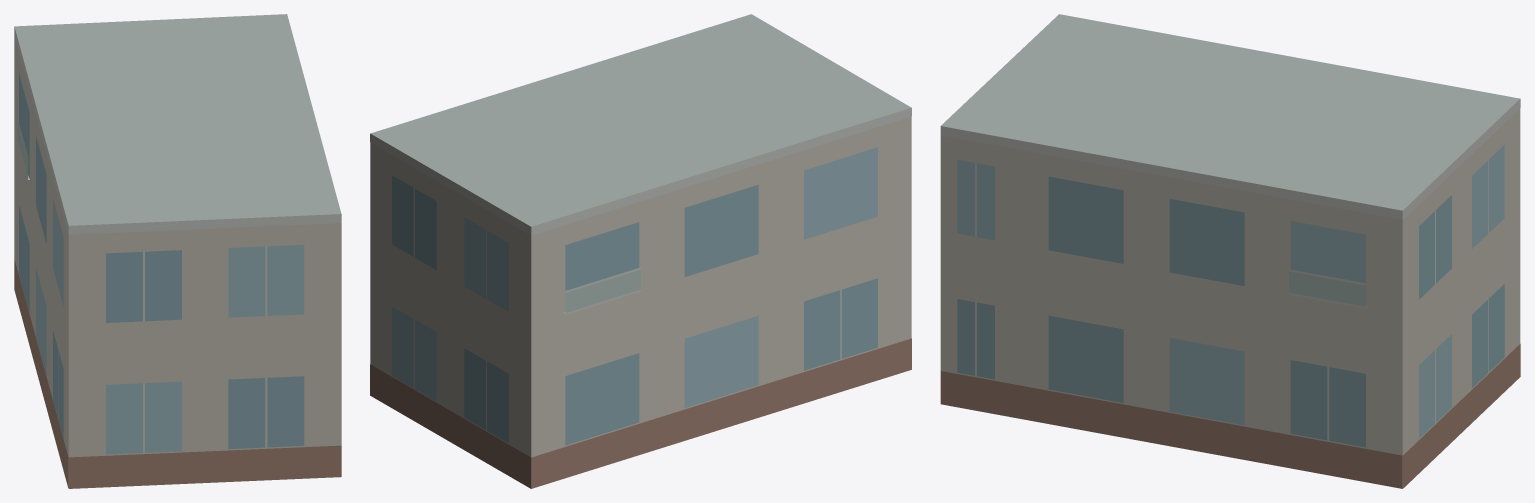
The model's file is survey-upis-32498289.glb.
3 renders of one model, left to right at view 1: azimuth 30°, elevation 25°; view 2: azimuth 150°, elevation 25°; view 3: azimuth 270°, elevation 25°, orthographic. The views are drawn at different scales.
Visible parts, largest first — view 1: survey-upis-32498289.tmp; view 2: survey-upis-32498289.tmp; view 3: survey-upis-32498289.tmp.
Part boxes in pixels (left/top/right/bottom): survey-upis-32498289.tmp: left=14, top=14, right=341, bottom=488; survey-upis-32498289.tmp: left=370, top=14, right=911, bottom=488; survey-upis-32498289.tmp: left=940, top=14, right=1520, bottom=488.
Size of the model in its own units: 10.92 by 7.2 by 13.61.
